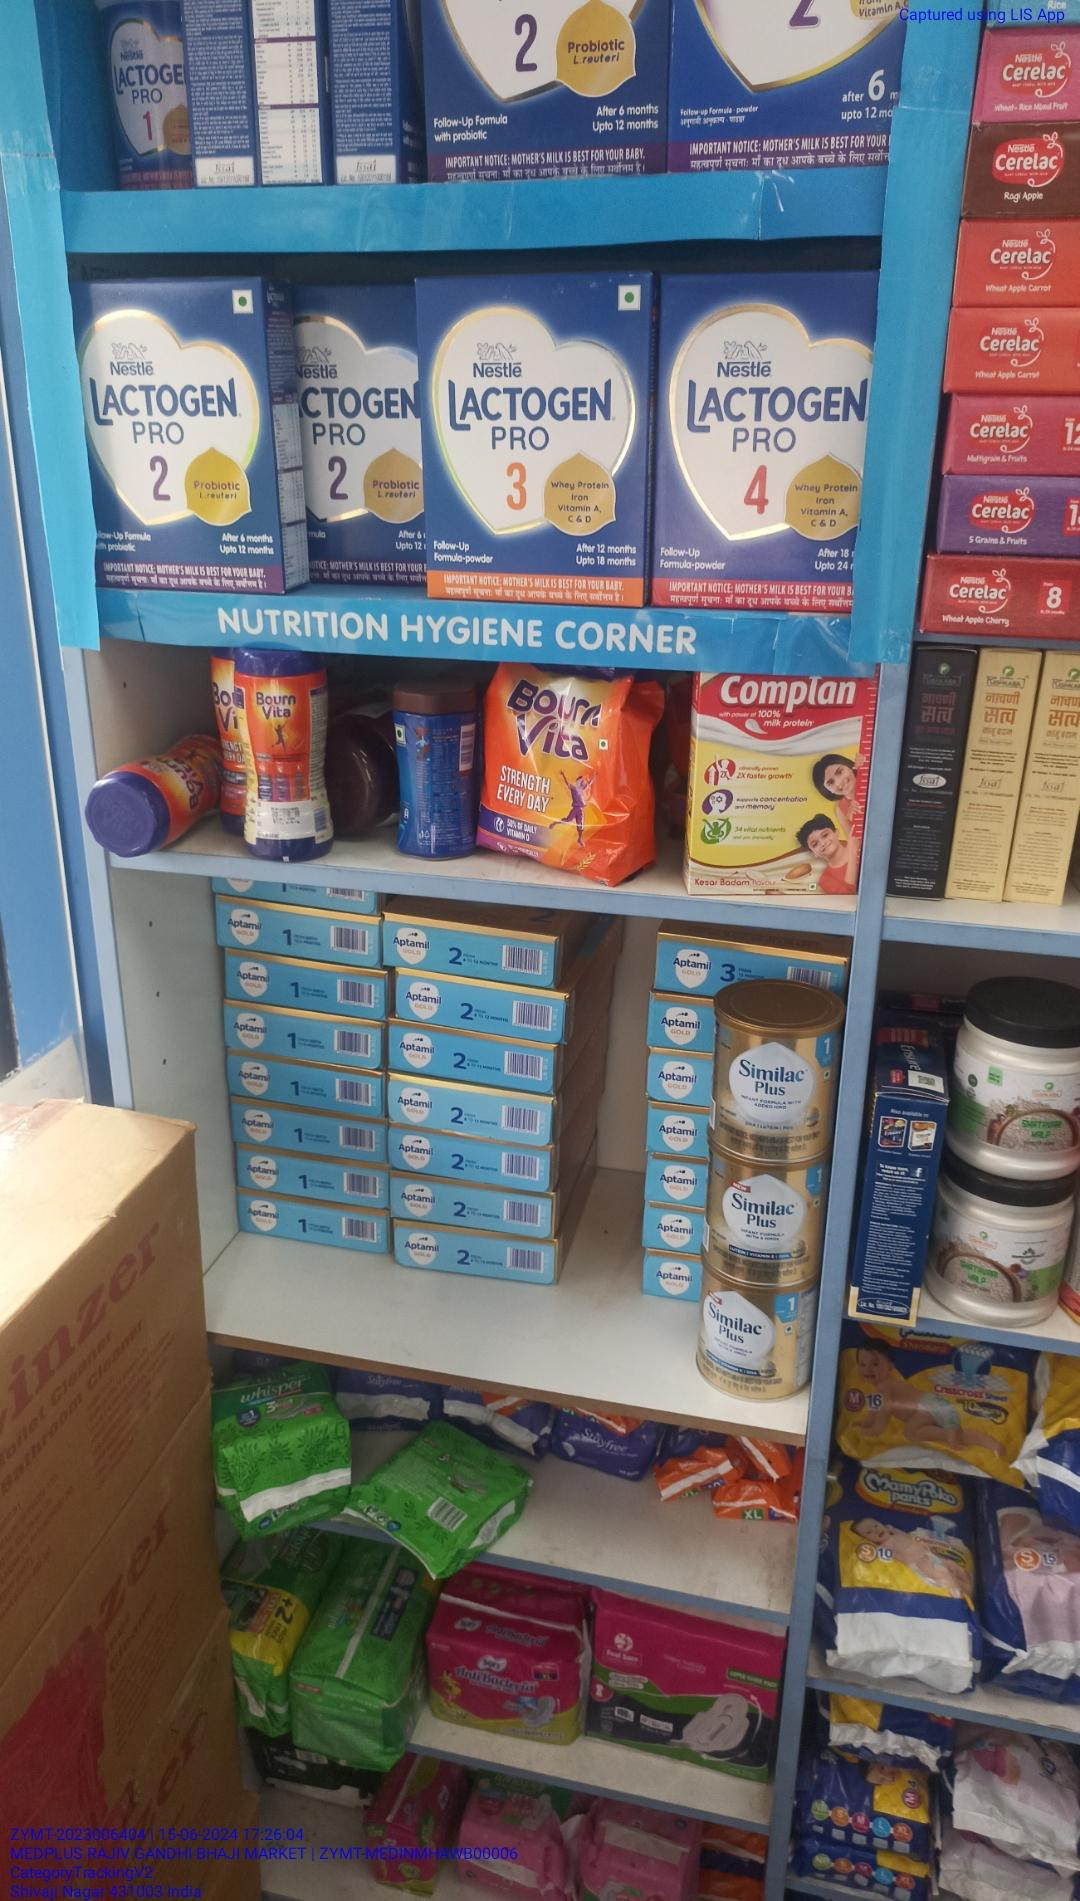BOURN_VITA_500_G_POUCH: (486, 662, 637, 881)
